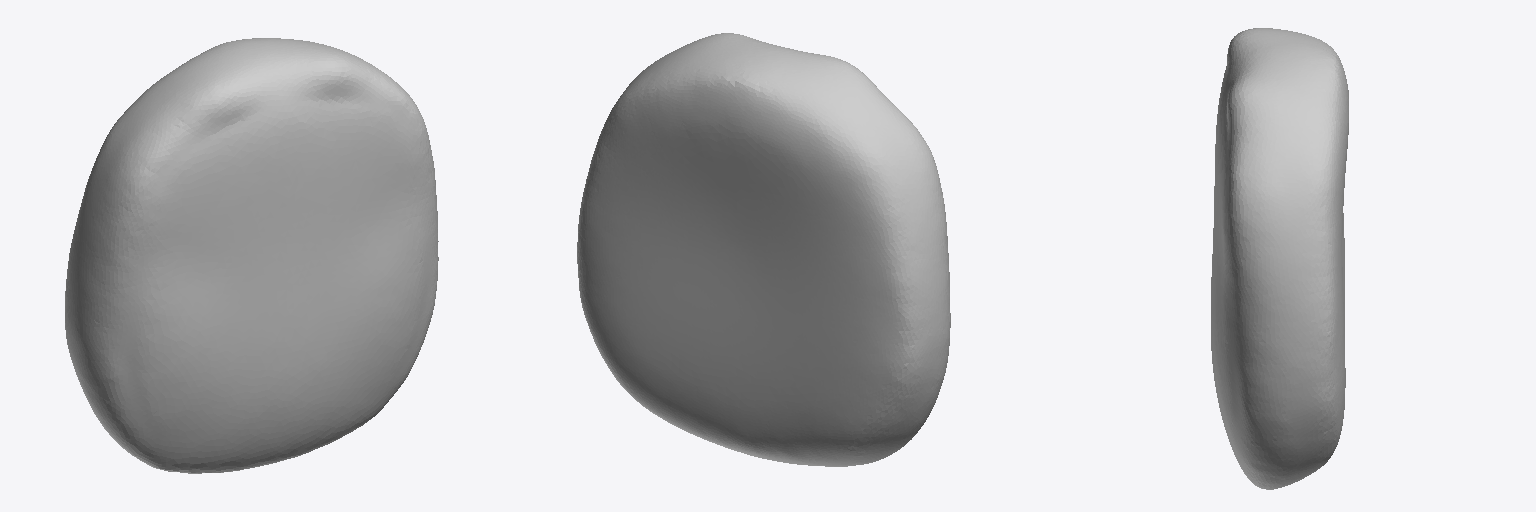
The model's file is back5.obj.
3 views of the same model, side by side, from view 1: azimuth 30°, elevation 25°; view 2: azimuth 150°, elevation 25°; view 3: azimuth 270°, elevation 25° (orthographic).
Visible parts, largest first — view 1: Group12609; view 2: Group12609; view 3: Group12609.
Part boxes in pixels (left/top/right/bottom): Group12609: left=65, top=38, right=438, bottom=473; Group12609: left=577, top=33, right=950, bottom=466; Group12609: left=1211, top=28, right=1348, bottom=489.
Bounding box in the file's own units: 0.2854 × 0.3135 × 0.0971.